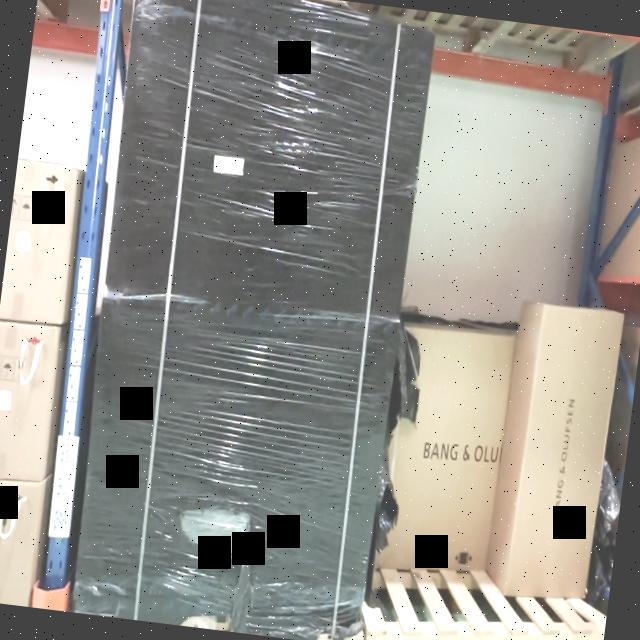box: (77, 305, 404, 626), (109, 0, 436, 315), (504, 308, 624, 599)
